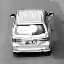motor: (13, 8, 51, 59)
